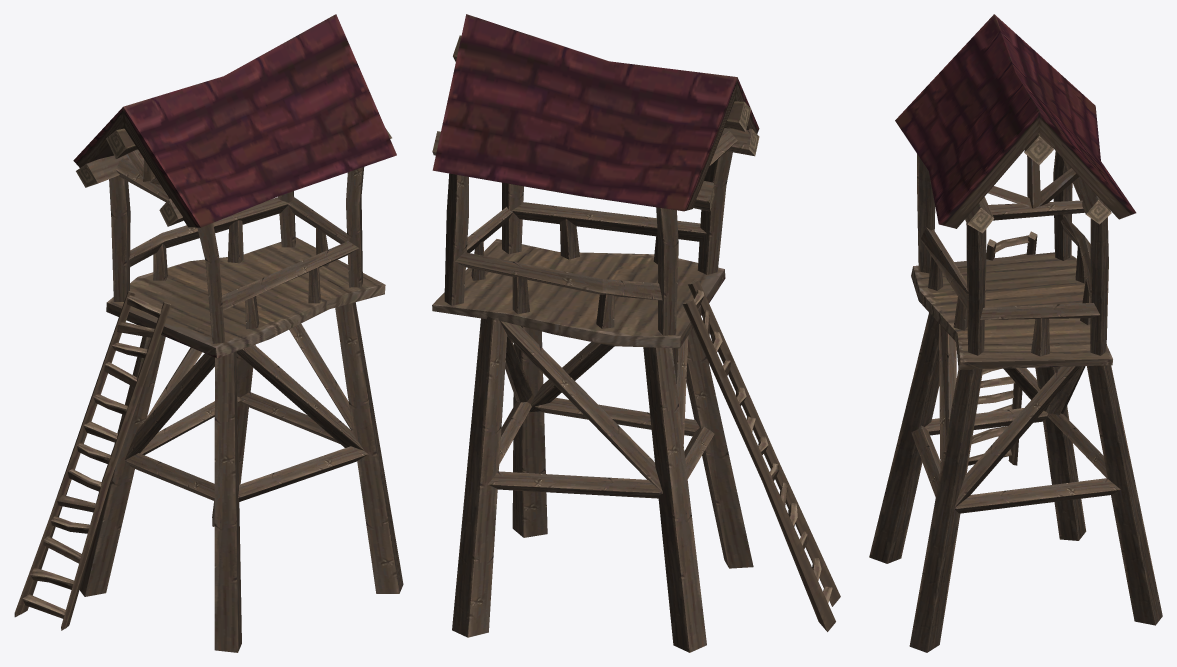
The model's file is building_guardtower.fbx.
The picture shows the model from 3 angles, left to right: view 1: azimuth 30°, elevation 25°; view 2: azimuth 150°, elevation 25°; view 3: azimuth 270°, elevation 25°; orthographic projection. The views are drawn at different scales.
Visible parts, largest first — view 1: orig_vendor03; view 2: orig_vendor03; view 3: orig_vendor03.
Boxes of the visible parts, x1,y1,x2,y2 form: orig_vendor03: (14,14,403,652); orig_vendor03: (432,14,840,652); orig_vendor03: (869,14,1162,652).
Size of the model in its own units: 6.9 by 9.84 by 4.88.
